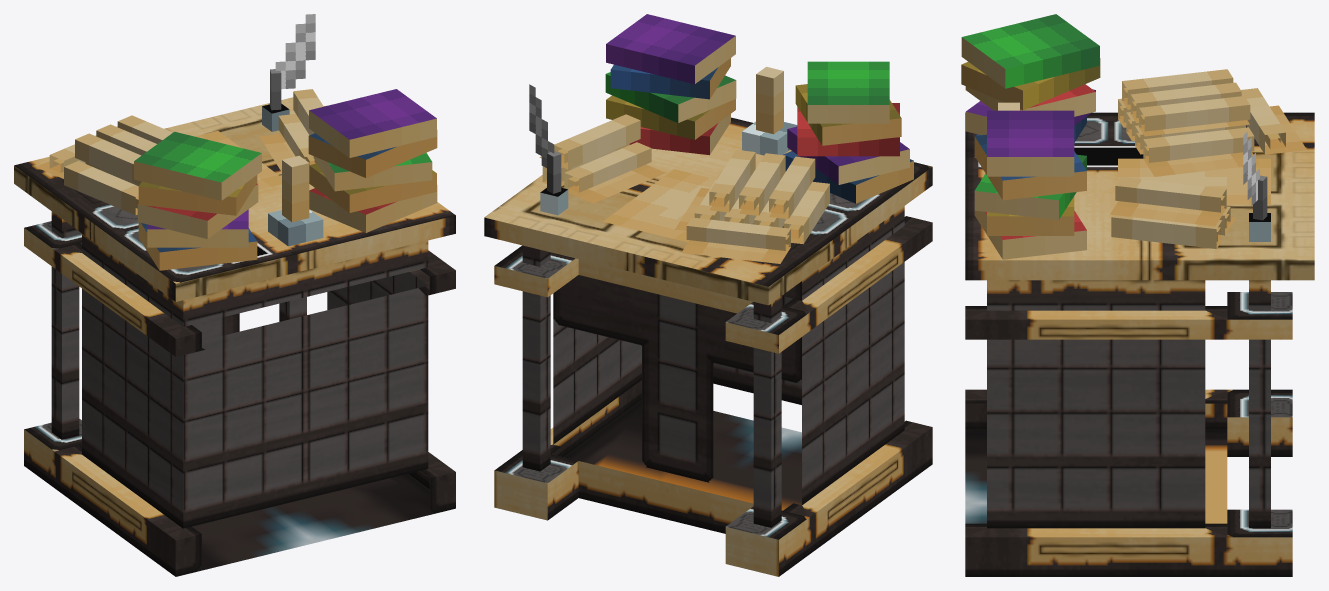
File: station_studydesk_inventory.obj
The picture shows the model from 3 angles, left to right: view 1: azimuth 30°, elevation 25°; view 2: azimuth 150°, elevation 25°; view 3: azimuth 270°, elevation 25°; orthographic projection. The views are drawn at different scales.
Parts seen in each view (by area): view 1: DESK_SINGLE_MAIN.006, STUDY_DESK_MAIN.013; view 2: DESK_SINGLE_MAIN.006, STUDY_DESK_MAIN.013; view 3: DESK_SINGLE_MAIN.006, STUDY_DESK_MAIN.013.
Part boxes in pixels (x1,y1,x2,y2): DESK_SINGLE_MAIN.006: (14,97,455,576); STUDY_DESK_MAIN.013: (36,14,437,270); DESK_SINGLE_MAIN.006: (484,117,932,576); STUDY_DESK_MAIN.013: (529,14,913,263); DESK_SINGLE_MAIN.006: (965,112,1314,576); STUDY_DESK_MAIN.013: (961,14,1306,259).
Size of the model in its own units: 1.01 by 1.38 by 1.01.
